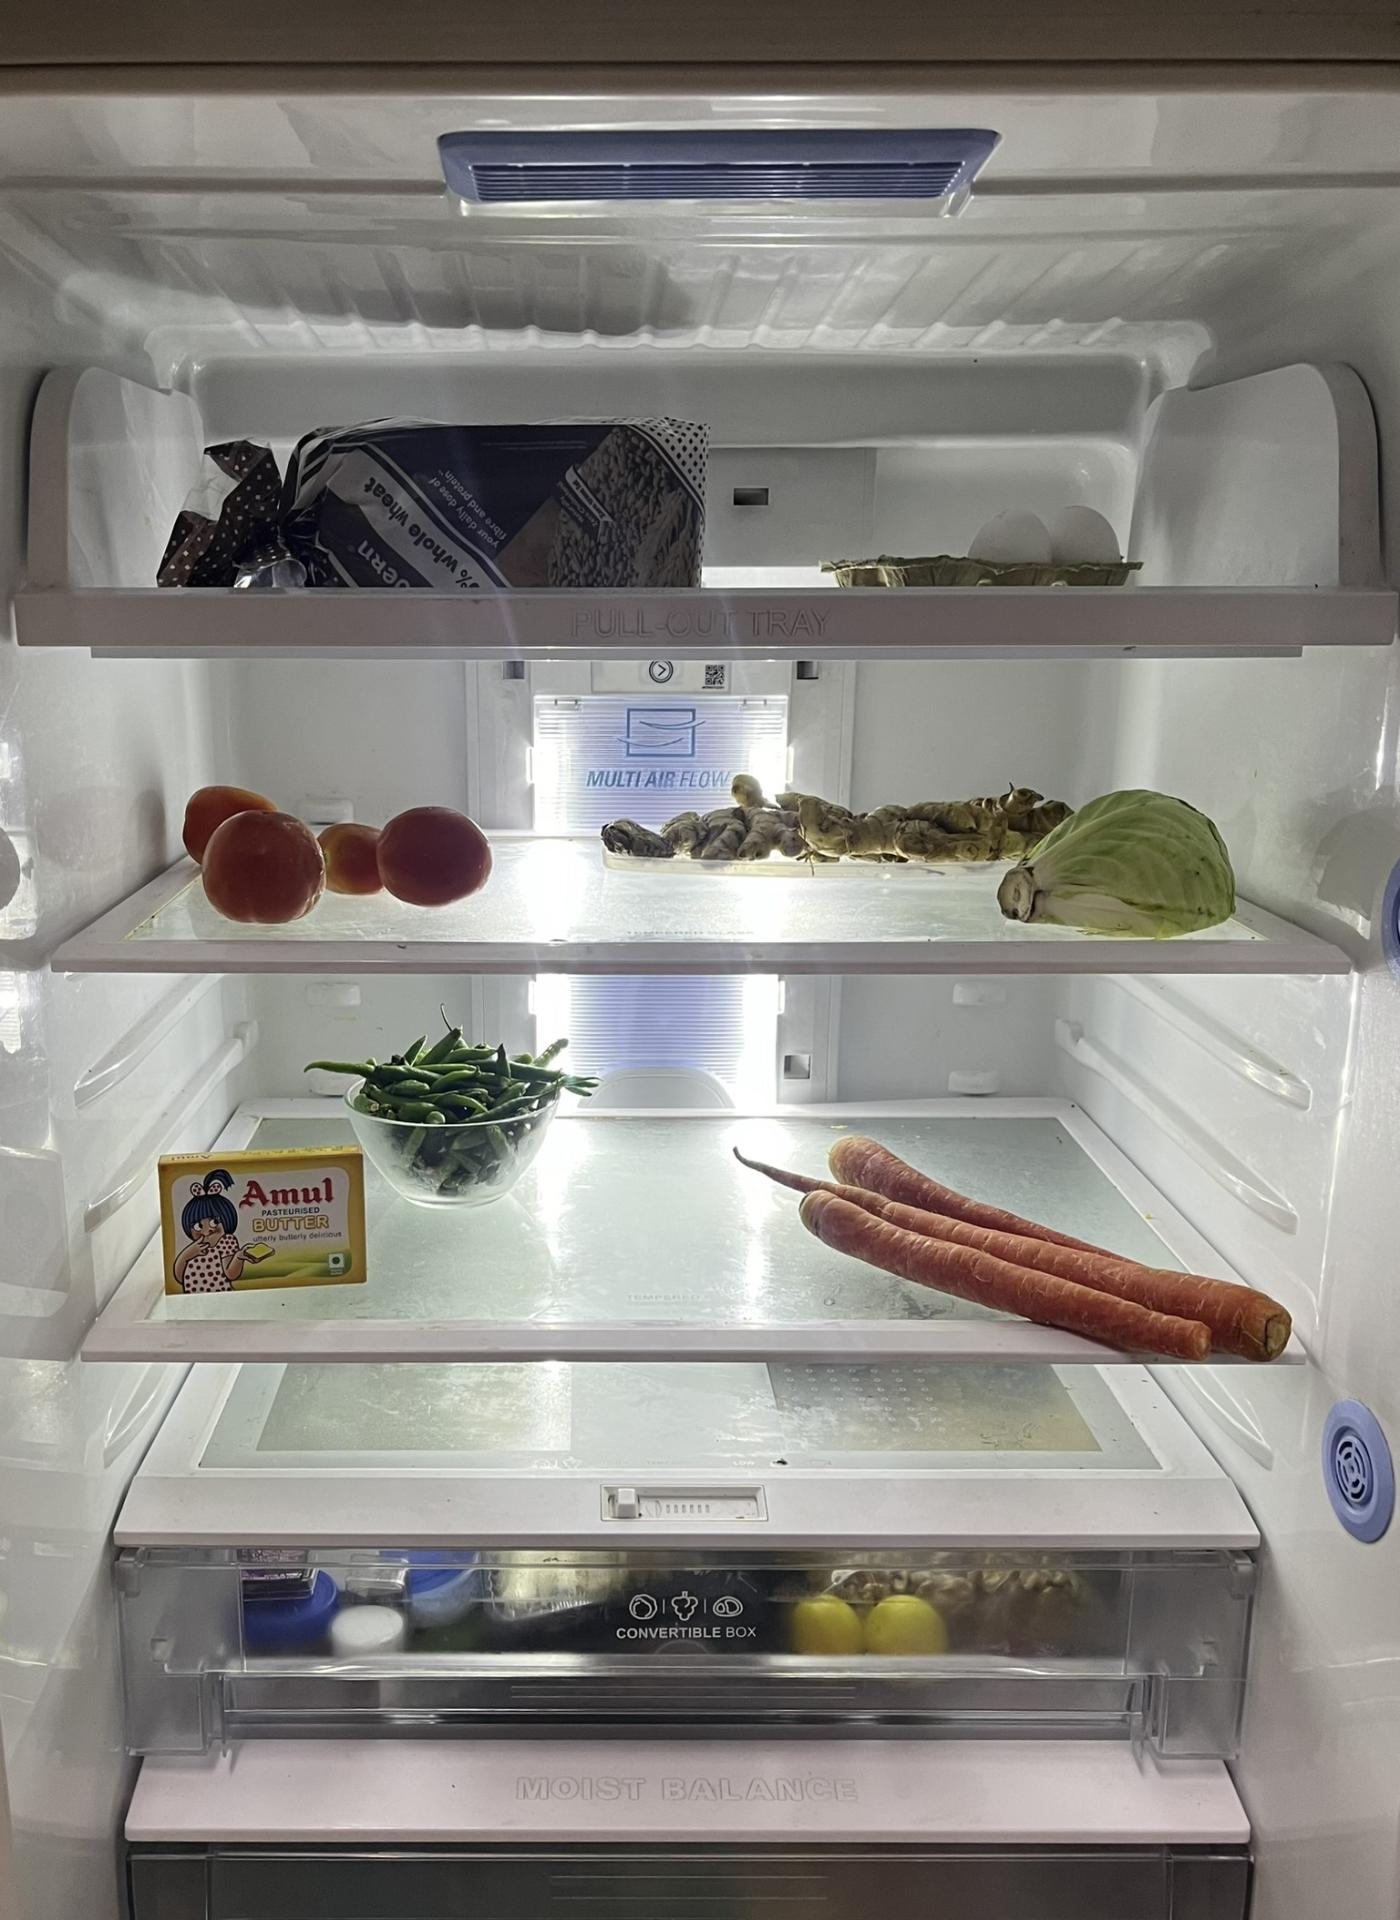bread: (164, 416, 711, 584)
butter: (158, 1139, 364, 1297)
cabbage: (1002, 790, 1230, 929)
carrots: (748, 1142, 1284, 1376)
chillies: (362, 1024, 567, 1197)
egg: (975, 499, 1136, 578)
ginger: (614, 769, 1069, 863)
tomato: (179, 781, 319, 918), (318, 809, 496, 900)
